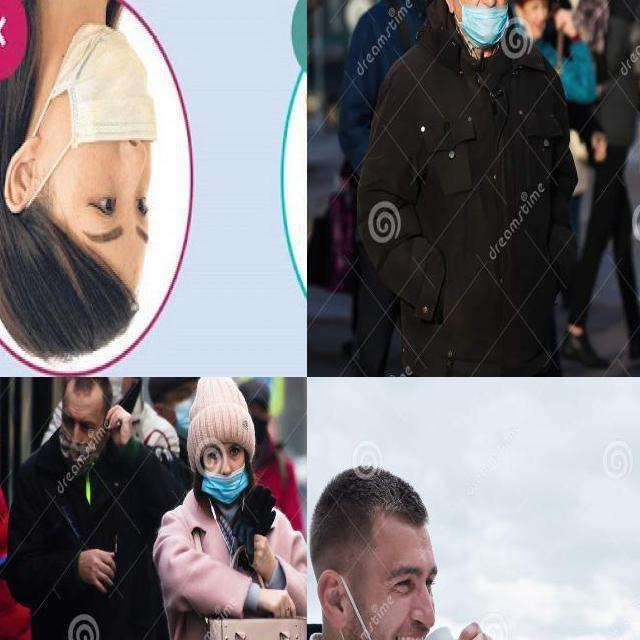hairnet: (40, 17, 159, 174), (460, 0, 510, 46), (206, 458, 246, 501)
